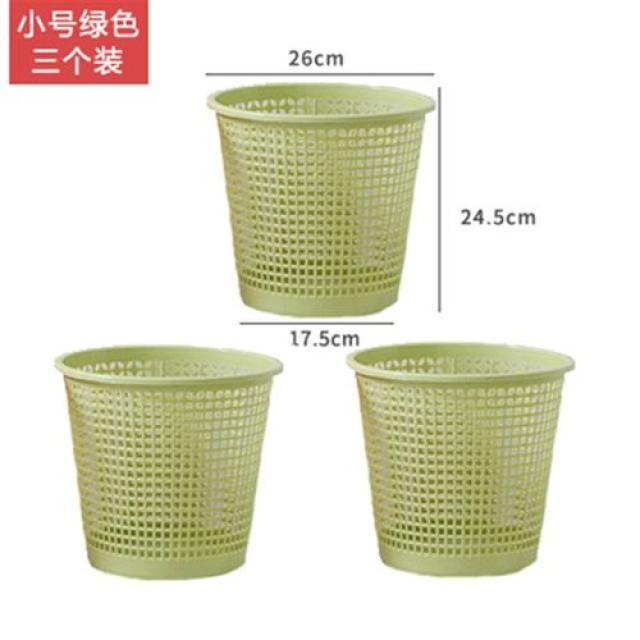dustbin: (342, 332, 581, 585), (51, 337, 286, 587), (204, 80, 440, 320)
